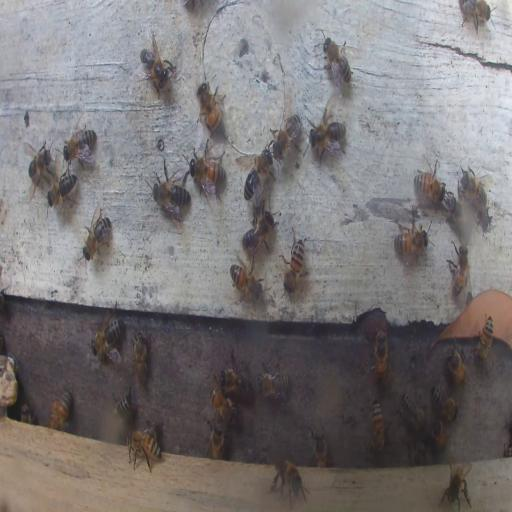bee: (139, 34, 178, 94), (307, 107, 347, 163), (152, 164, 191, 220), (244, 140, 275, 208), (392, 211, 430, 266), (189, 146, 226, 200), (320, 34, 352, 90), (270, 459, 308, 504), (197, 73, 225, 134), (441, 459, 473, 511), (270, 109, 302, 161), (241, 209, 275, 257), (126, 428, 161, 474), (82, 207, 112, 259), (92, 315, 123, 364), (282, 230, 305, 294), (456, 164, 488, 210), (48, 166, 78, 212), (63, 127, 97, 165), (447, 241, 470, 297), (257, 360, 289, 400), (230, 264, 263, 302), (398, 390, 426, 434), (218, 354, 250, 392), (413, 166, 446, 202), (458, 1, 495, 33), (447, 194, 474, 236), (430, 382, 458, 422), (26, 142, 50, 188), (369, 398, 388, 454), (210, 383, 236, 423), (132, 330, 149, 386), (49, 390, 73, 429), (475, 315, 494, 363), (444, 348, 468, 386), (374, 330, 388, 382), (311, 426, 328, 468), (430, 416, 448, 454), (113, 386, 133, 417), (208, 422, 224, 459), (409, 440, 426, 464), (20, 402, 32, 422)
